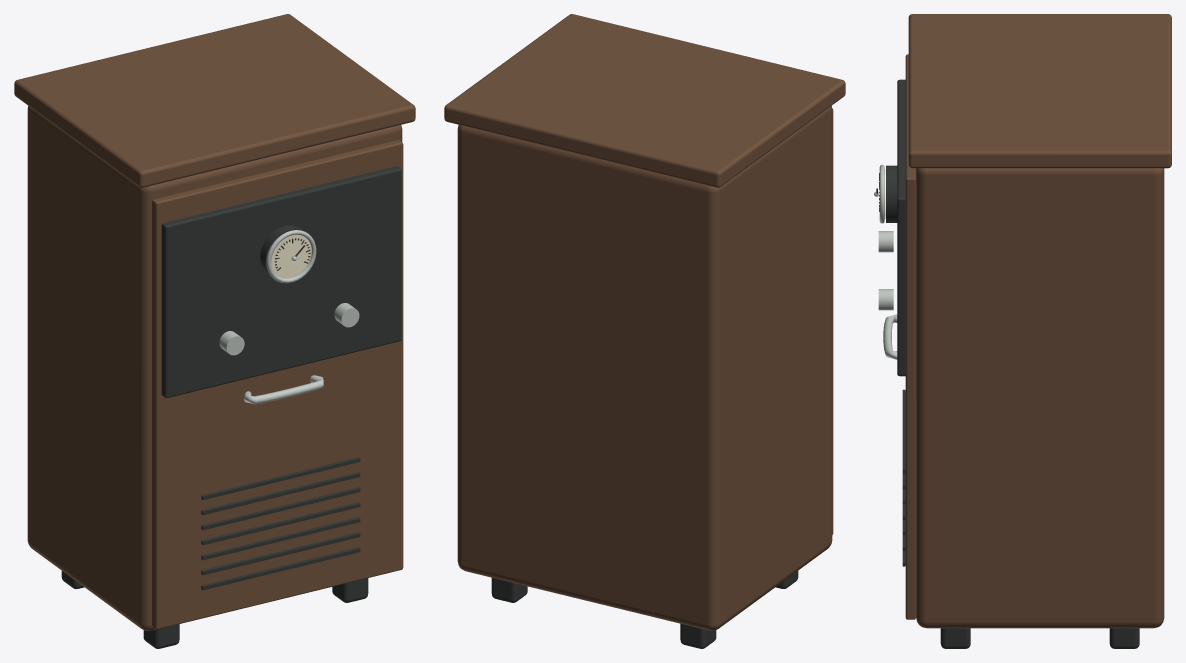
File: abandoned-telephone-exchange-charging-cabinet-166b6a9c__32009.glb
3 renders of one model, left to right at view 1: azimuth 30°, elevation 25°; view 2: azimuth 150°, elevation 25°; view 3: azimuth 270°, elevation 25°, orthographic. The views are drawn at different scales.
Parts seen in each view (by area): view 1: charging-cabinet; view 2: charging-cabinet; view 3: charging-cabinet.
Part boxes in pixels (x1,y1,x2,y2): charging-cabinet: (14, 14, 415, 648); charging-cabinet: (444, 14, 845, 648); charging-cabinet: (874, 14, 1171, 648).
Bounding box in the file's own units: 0.77 × 1.33 × 0.6955.
